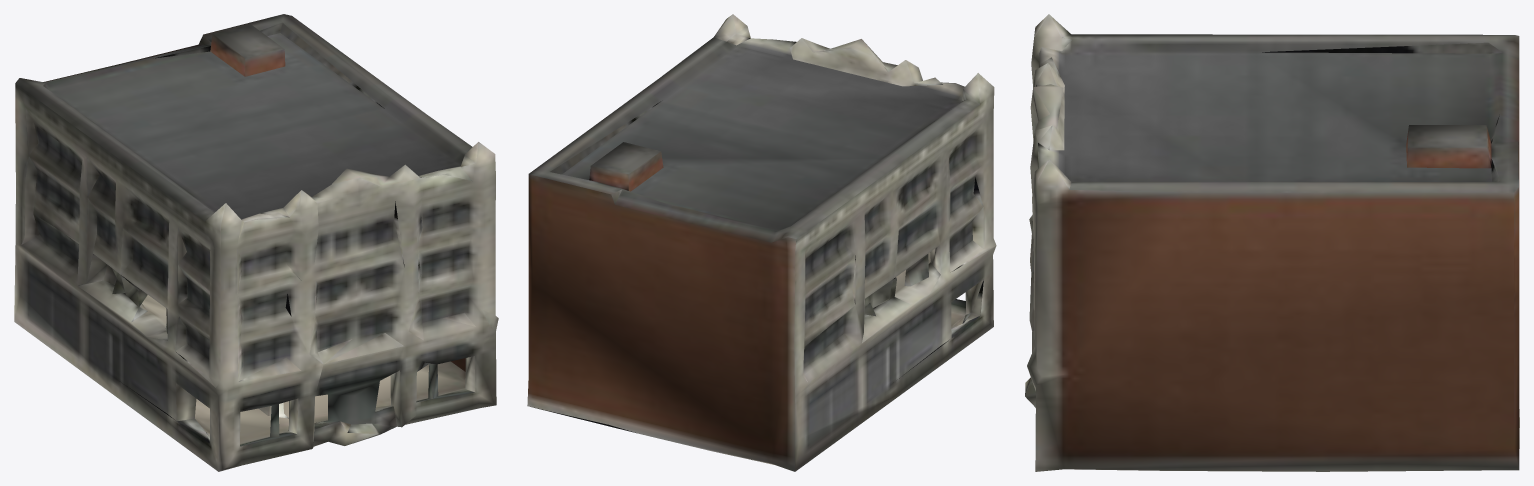
Rendered from gen_low2_terracotta_comm.glb.
The picture shows the model from 3 angles, left to right: view 1: azimuth 30°, elevation 25°; view 2: azimuth 150°, elevation 25°; view 3: azimuth 270°, elevation 25°; orthographic projection. The views are drawn at different scales.
Parts seen in each view (by area): view 1: gen_low2_terracotta_comm; view 2: gen_low2_terracotta_comm; view 3: gen_low2_terracotta_comm.
Part boxes in pixels (<box>): gen_low2_terracotta_comm: <box>14,14,498,471</box>; gen_low2_terracotta_comm: <box>527,14,996,471</box>; gen_low2_terracotta_comm: <box>1025,14,1519,471</box>.
Bounding box in the file's own units: 20 × 17.7 × 25.8.
1 material, 1 textured.
